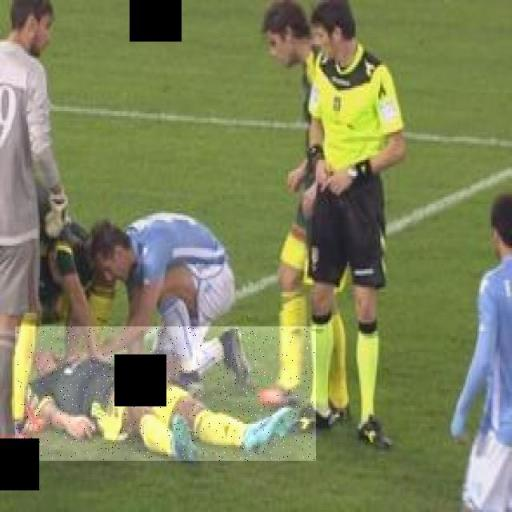Fall: (15, 327, 316, 462)
